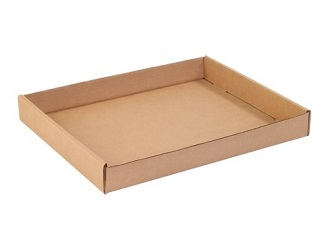Rec_Paper: (12, 43, 318, 199)
